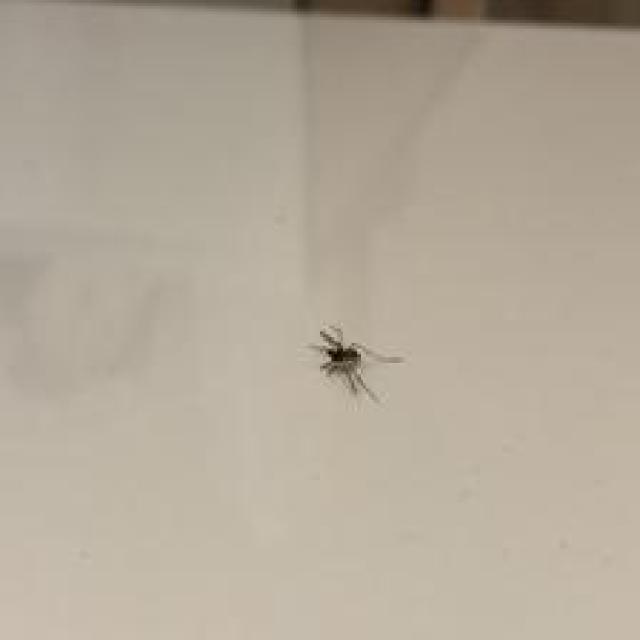Culex: (306, 323, 406, 403)
